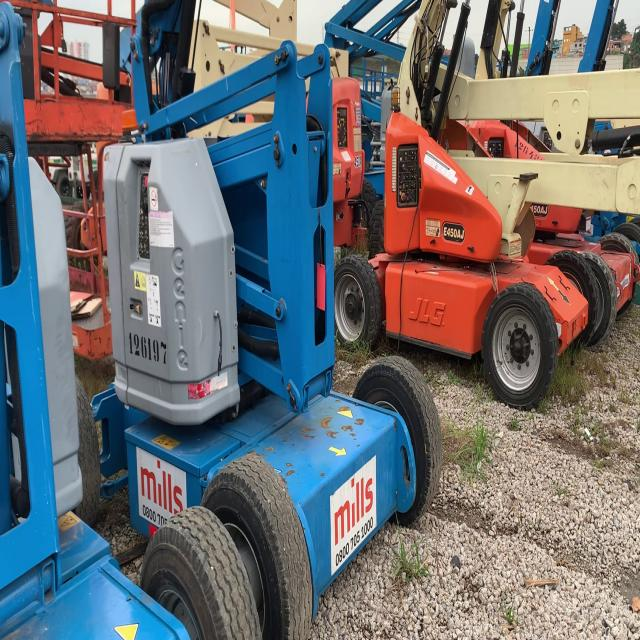Adesivos: (328, 451, 378, 578)
